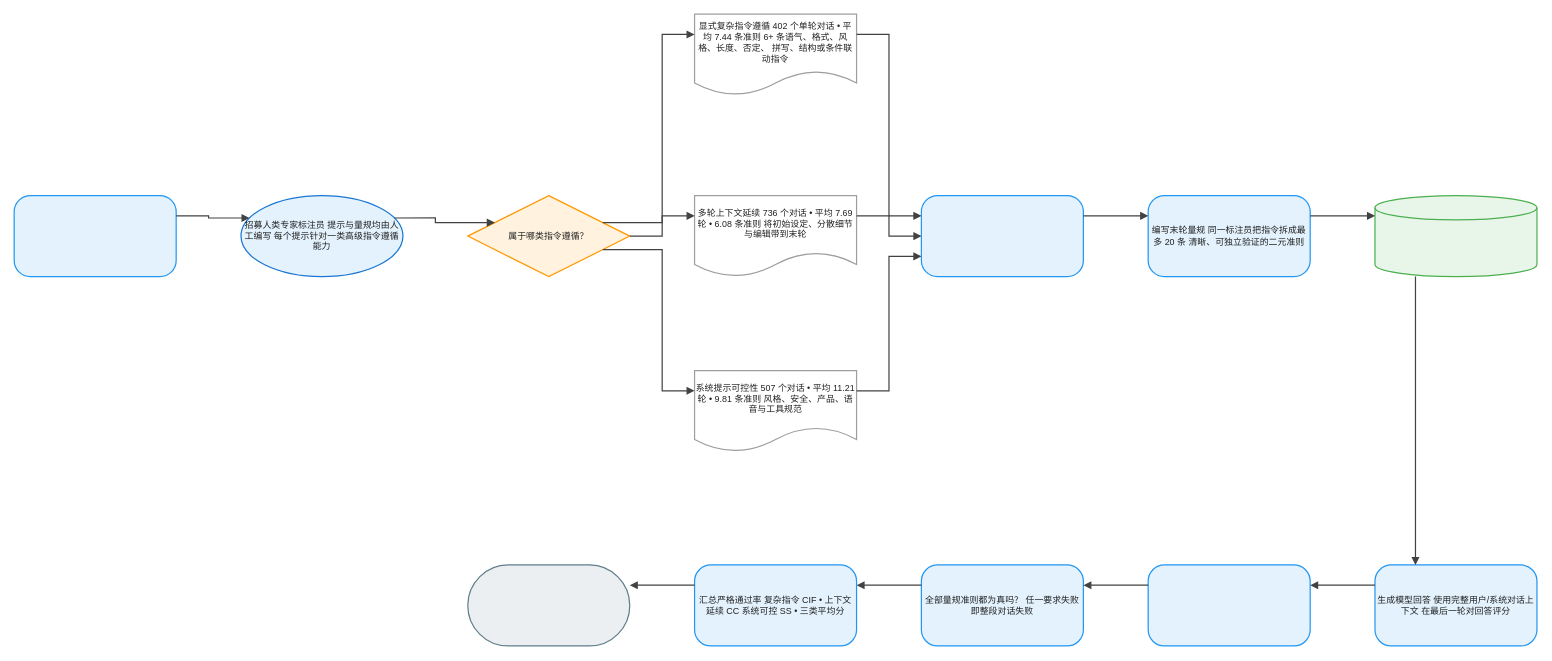
Some shapes in this 1552 by 661 pixel diagram are drawn without their labels. The shapes that lost their labels are listed below. From the top down, each one's centre as x and y in pixels, then its label:
the point at 94,236: 定义高级指令遵循 将指令执行与事实性区分 避免意图模糊和能力域重叠
the point at 1002,236: 对抗式收集提示 多轮标注员先与给定 LLM 对话 只保留末轮触发指令遵循失败的提示
the point at 1455,236: 发布 AdvancedIF 402 + 736 + 507 = 1,645 个对话 人工提示 • 人工量规 • 多轮 + 系统提示
the point at 548,605: 报告高级指令遵循能力 比较思考与最小思考模型 诊断单轮、上下文延续与系统提示差距
the point at 1228,605: 逐条验证全部准则 o3-mini 接收提示、回答与量规 为每条准则输出真或假
